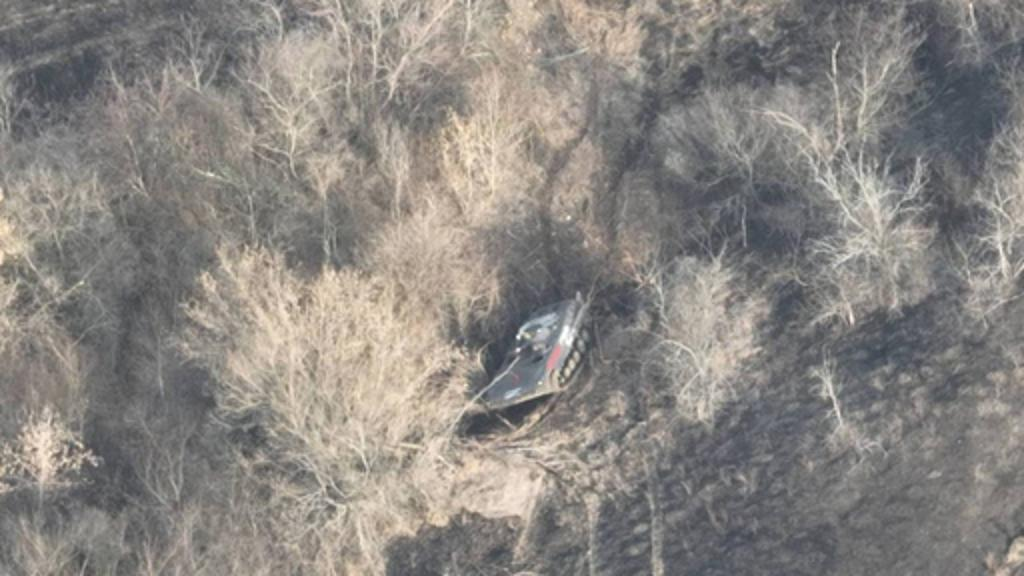APC-IFV: (476, 282, 602, 424)
